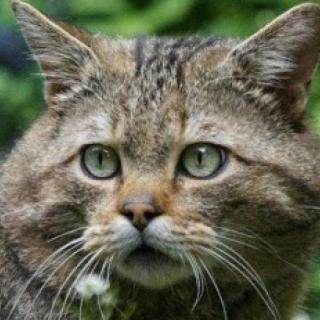cat: (8, 0, 320, 299)
nose: (115, 178, 174, 237)
